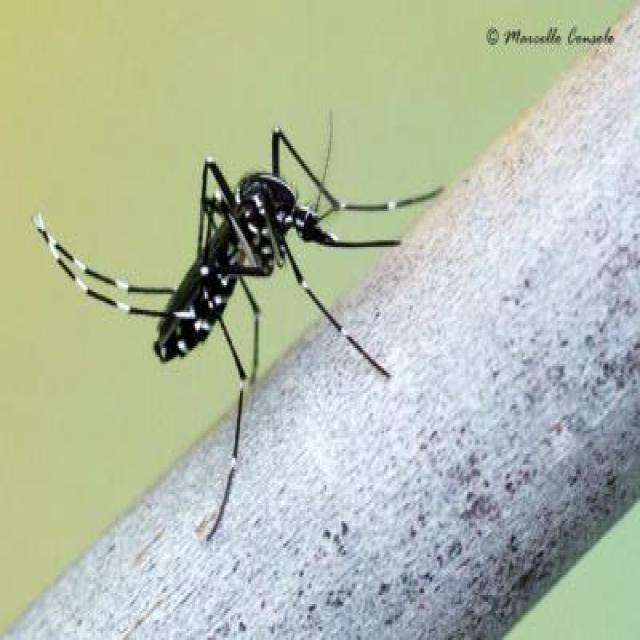antennae: (305, 103, 342, 231)
body: (153, 174, 320, 364)
insect: (27, 102, 445, 540)
legs: (205, 232, 390, 540), (272, 112, 448, 218), (28, 211, 182, 330)
mouthpart: (310, 206, 405, 262)
wings: (152, 206, 234, 339)
